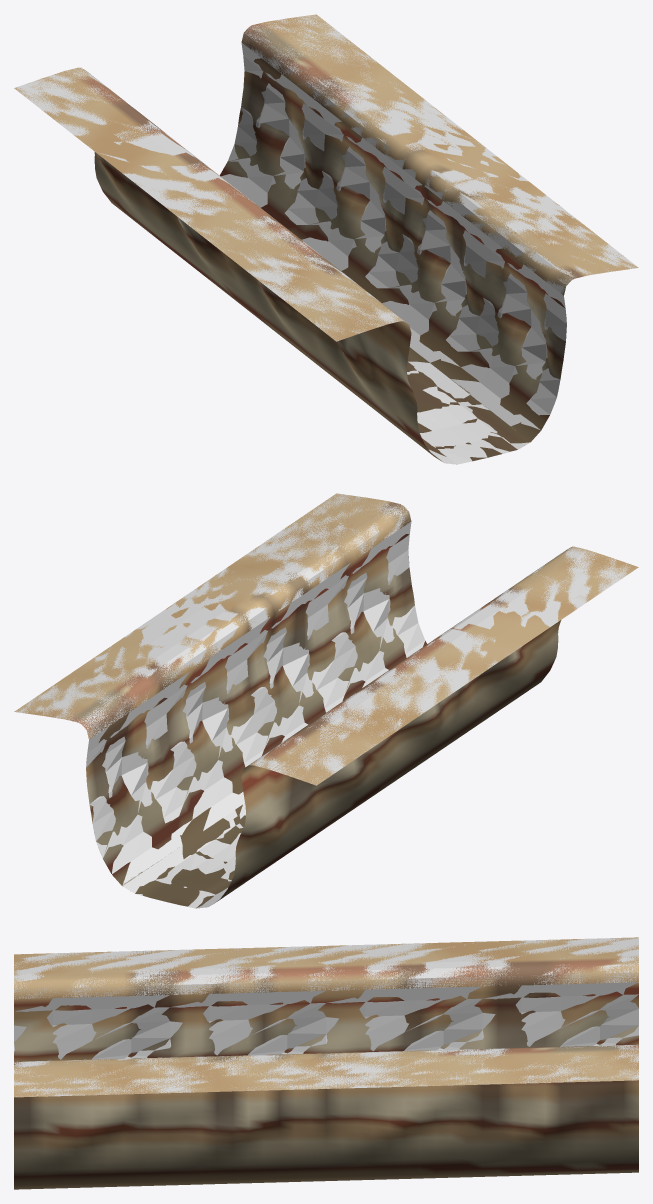
The model's file is slot_canyon_flow.glb.
3 views of the same model, one above another, from view 1: azimuth 30°, elevation 25°; view 2: azimuth 150°, elevation 25°; view 3: azimuth 270°, elevation 25° (orthographic). The views are drawn at different scales.
Visible parts, largest first — view 1: slot_canyon_flow, slot_canyon_flow-col; view 2: slot_canyon_flow, slot_canyon_flow-col; view 3: slot_canyon_flow, slot_canyon_flow-col.
Boxes of the visible parts, x1,y1,x2,y2 form: slot_canyon_flow: [14, 14, 638, 462]; slot_canyon_flow-col: [14, 14, 637, 464]; slot_canyon_flow: [14, 493, 638, 908]; slot_canyon_flow-col: [15, 493, 630, 908]; slot_canyon_flow: [14, 937, 638, 1189]; slot_canyon_flow-col: [14, 937, 638, 1096].
Bounding box in the file's own units: 26 × 14.42 × 48.
